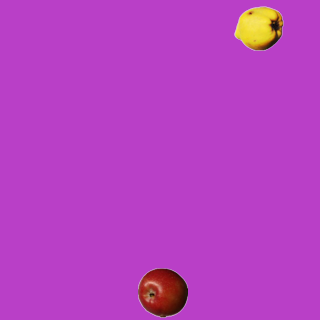Apple Braeburn: (137, 267, 187, 317)
Quince: (233, 3, 283, 53)
